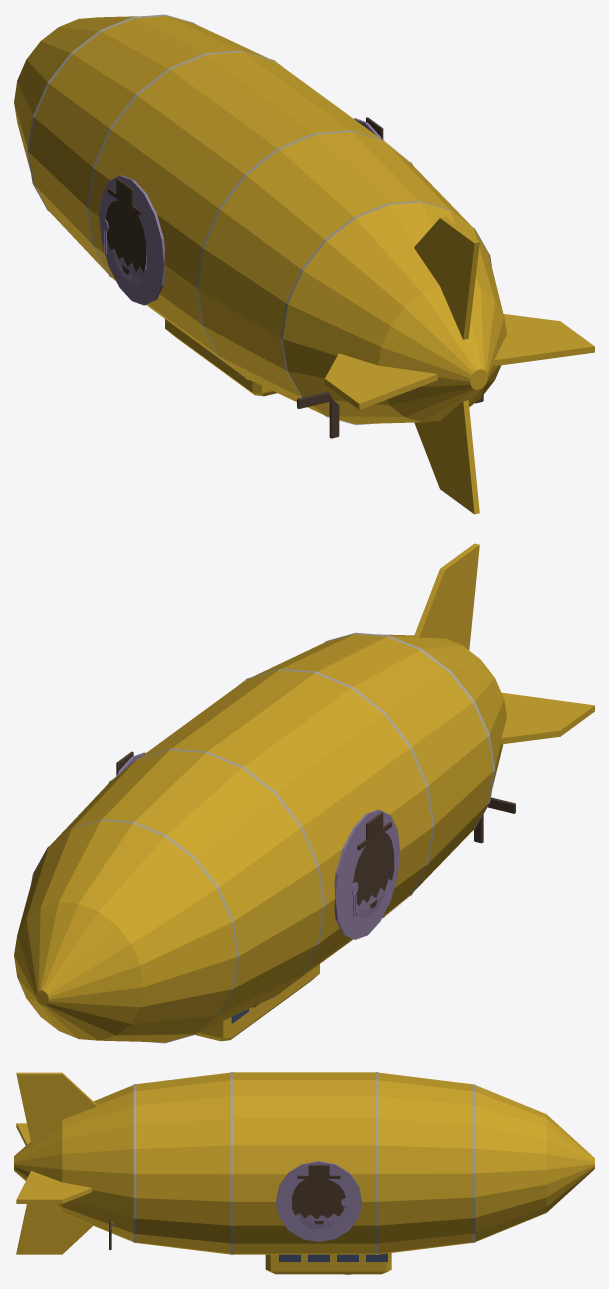
Rendered from R01_Director_Blimp.fbx.
The picture shows the model from 3 angles, top to bottom: view 1: azimuth 30°, elevation 25°; view 2: azimuth 150°, elevation 25°; view 3: azimuth 270°, elevation 25°; orthographic projection. The views are drawn at different scales.
Visible parts, largest first — view 1: Body, Prop_L; view 2: Body; view 3: Body.
Part boxes in pixels (bbox=[...]): Body: bbox=[14, 14, 594, 514]; Prop_L: bbox=[297, 391, 339, 438]; Body: bbox=[14, 543, 594, 1043]; Body: bbox=[14, 1072, 594, 1274].
Bounding box in the file's own units: 8 × 9 × 24.
